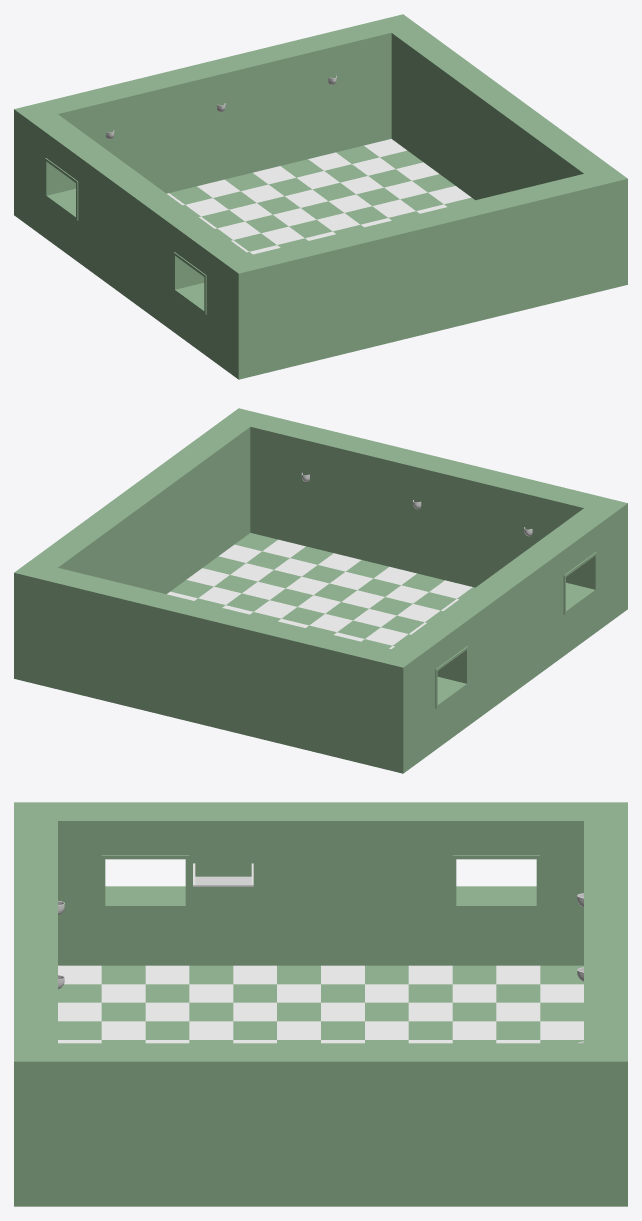
The model's file is testNiveauCuisineNoAssiettesDuDemon.fbx.
3 views of the same model, one above another, from view 1: azimuth 30°, elevation 25°; view 2: azimuth 150°, elevation 25°; view 3: azimuth 270°, elevation 25° (orthographic). The views are drawn at different scales.
Parts seen in each view (by area): view 1: Murs, Carrelage_1, Carrelage_2; view 2: Murs, Carrelage_2, Carrelage_1; view 3: Murs, Carrelage_1, Carrelage_2, Cube_1.
Part boxes in pixels (<box>): Murs: <box>14,14,627,379</box>; Carrelage_1: <box>167,139,471,254</box>; Carrelage_2: <box>169,145,474,254</box>; Murs: <box>14,408,627,773</box>; Carrelage_2: <box>170,533,474,648</box>; Carrelage_1: <box>167,539,472,648</box>; Murs: <box>14,802,627,1206</box>; Carrelage_1: <box>58,965,583,1043</box>; Carrelage_2: <box>58,965,583,1043</box>; Cube_1: <box>193,863,253,886</box>.
Size of what is drawn, in the model's own units: 2807 by 729 by 2800.
